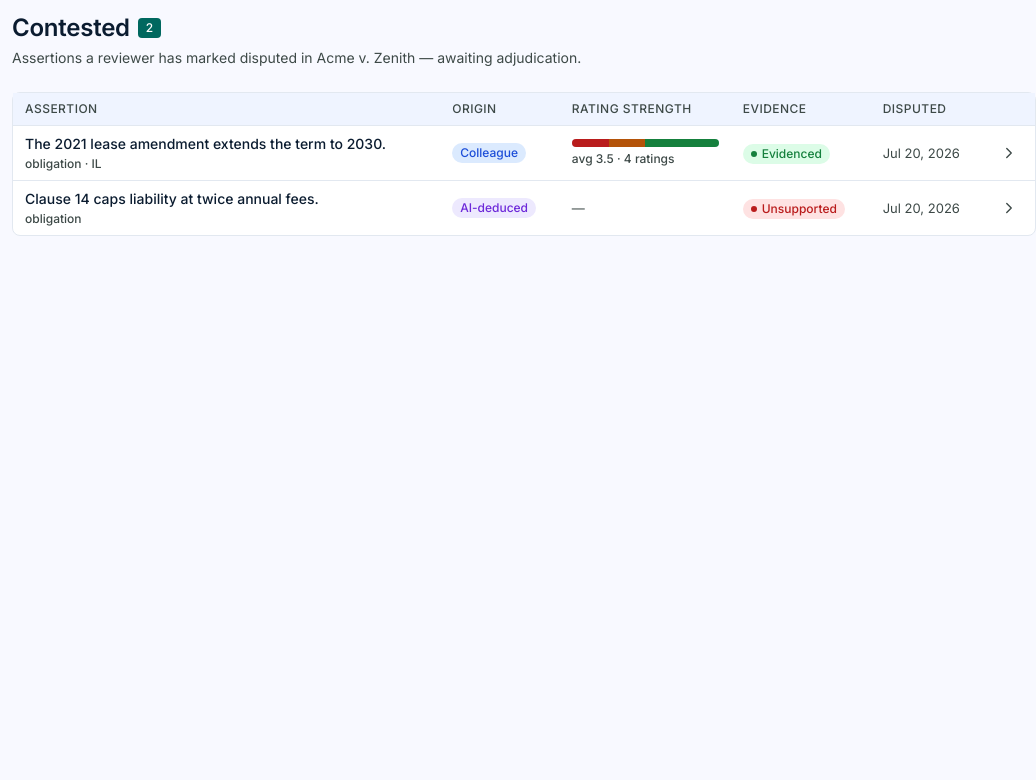
ContestedPage › expands a row into the drawer: evidence list and rating tiles
The image size is (1036, 780).
Expected: the link "The 2021 lease amendment extends the term to 2030." is shown, [25,134,428,154]
Click the button named "Expand row" in the row of "· IL": [1009, 153] box [995,139,1023,167]
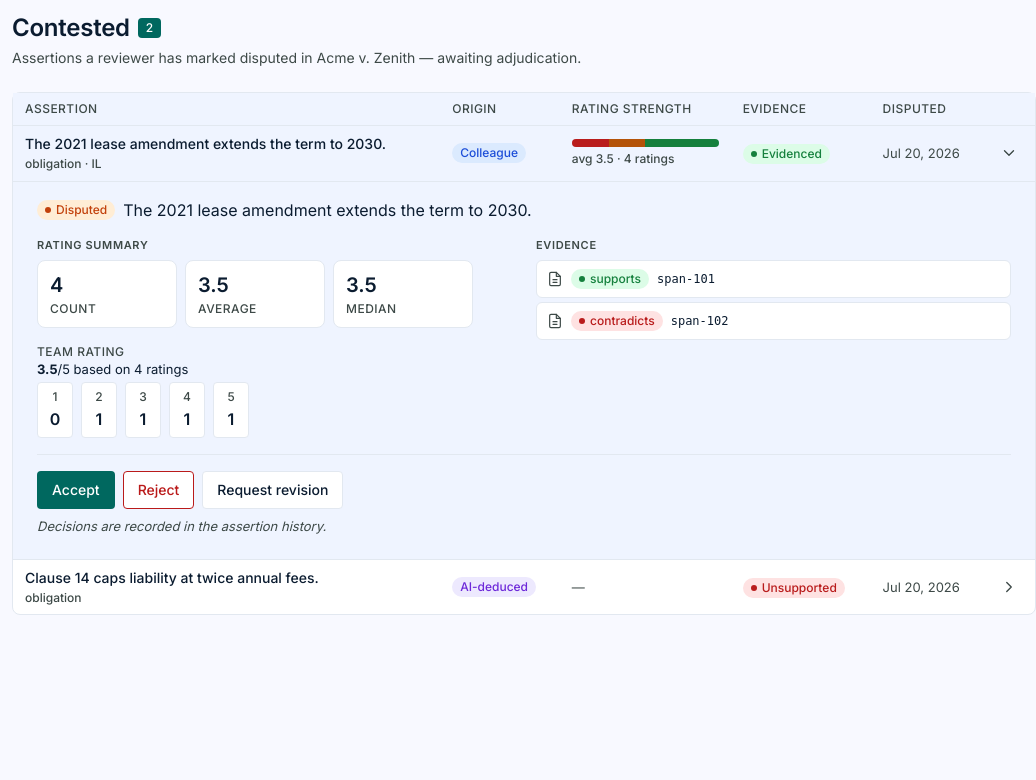
Expected: the text "span-101" is shown, [657,270,715,288]
Expected: the text "supports" is shown, [571,269,649,289]
Expected: the text "contradicts" is shown, [571,311,663,331]
